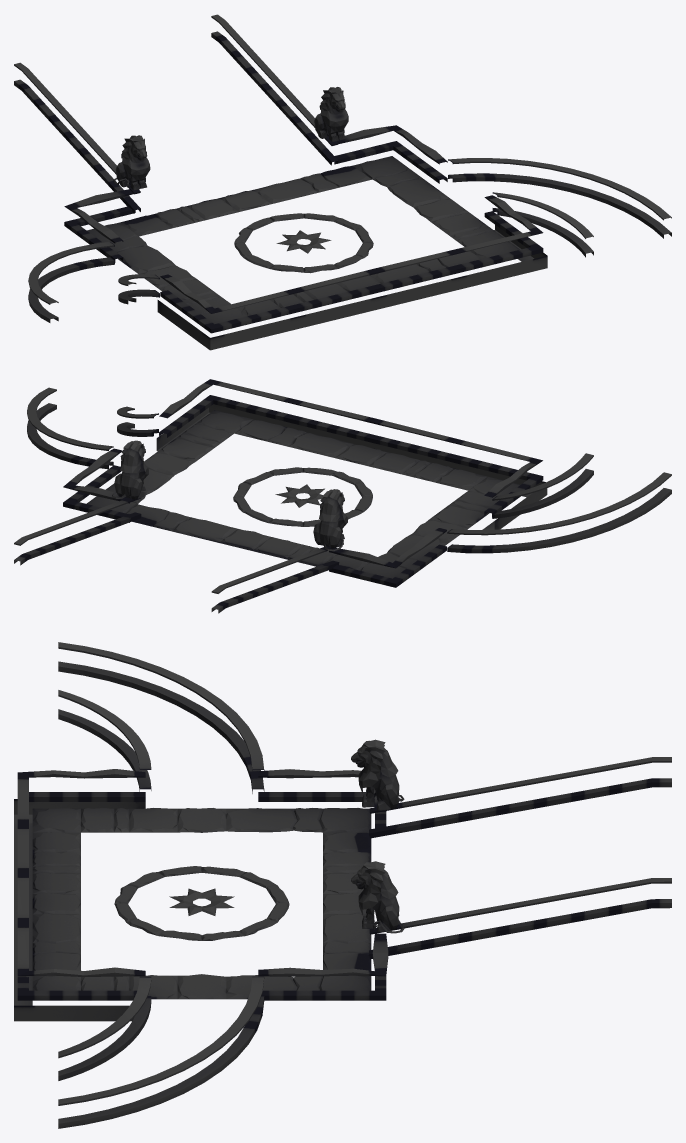
The model's file is Ground_03.FBX.
The picture shows the model from 3 angles, top to bottom: view 1: azimuth 30°, elevation 25°; view 2: azimuth 150°, elevation 25°; view 3: azimuth 270°, elevation 25°; orthographic projection. The views are drawn at different scales.
Parts seen in each view (by area): view 1: Ground_03; view 2: Ground_03; view 3: Ground_03.
Boxes of the visible parts, left/top/right/bottom form: Ground_03: left=14, top=14, right=671, bottom=350; Ground_03: left=14, top=379, right=671, bottom=613; Ground_03: left=14, top=642, right=671, bottom=1128.
Size of the model in its own units: 47.9 by 8 by 35.
